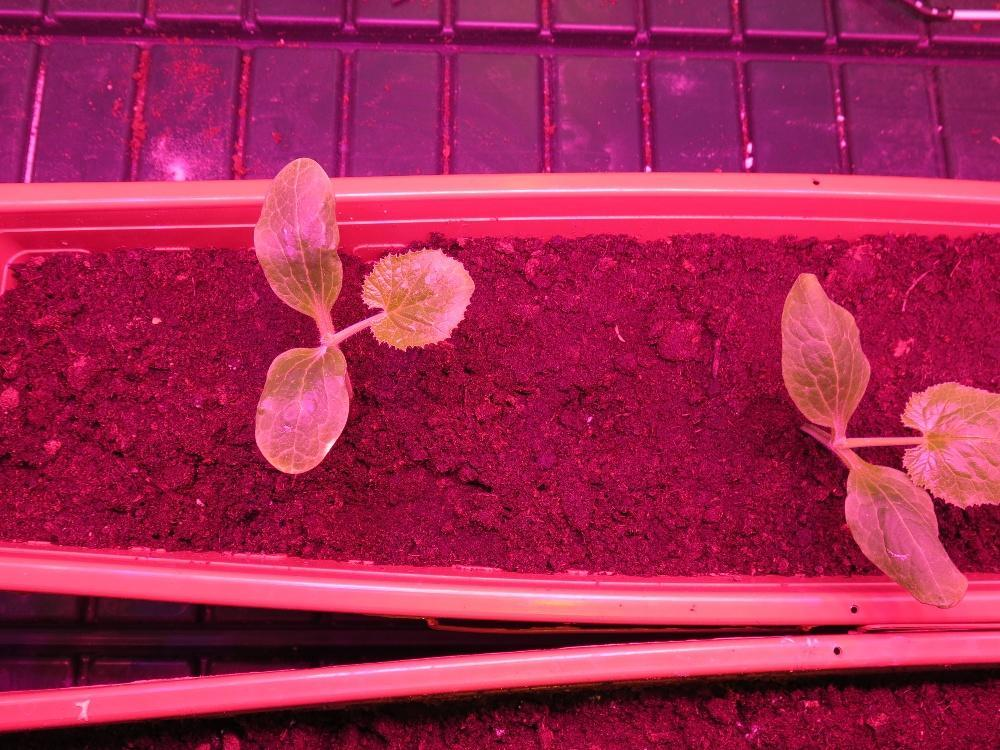crop: (250, 145, 474, 477)
weed: (612, 321, 625, 344)
